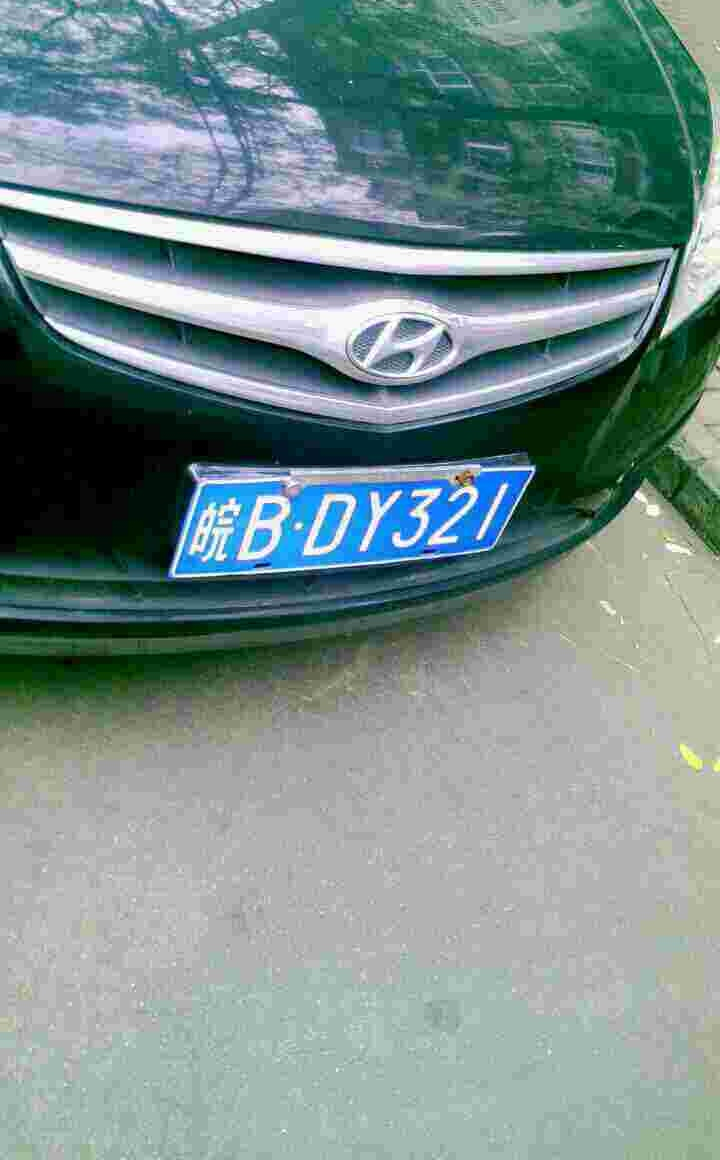license_plate: (172, 471, 513, 585)
